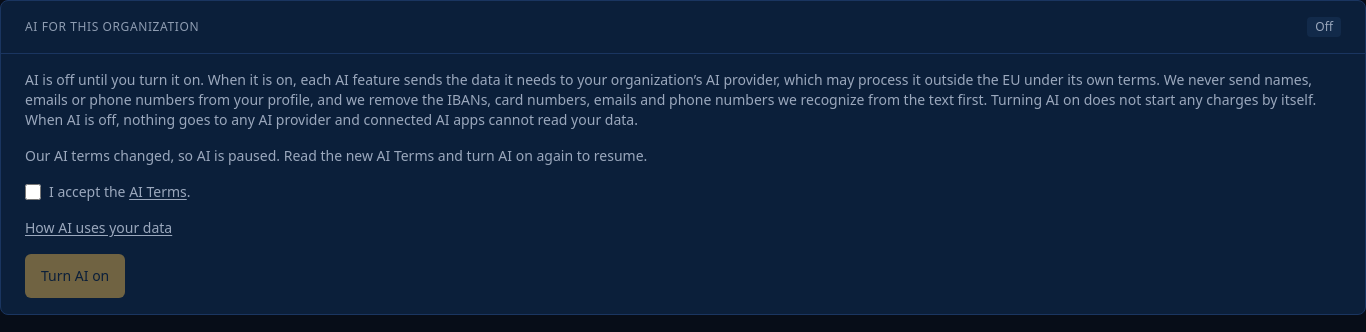
Scenario: AiMasterSwitchCard › a stale version renders Off with the box unticked, button disabled until ticked
The image size is (1366, 332).
Expected: the text "Off" is shown, [1307,17,1341,37]
Expected: the button "Turn AI on" is disabled, [25,254,125,298]
Click the checkbox: click(33, 192) [25,184,41,200]
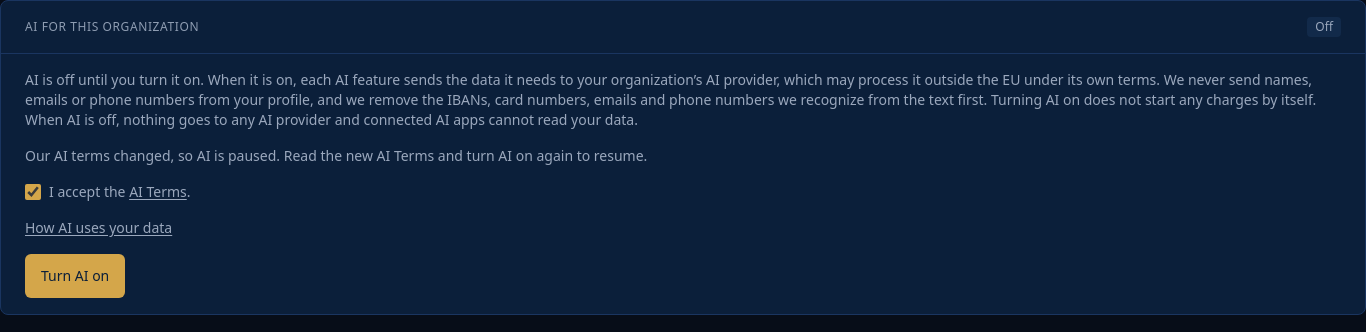
Now the button "Turn AI on" is enabled, box [25,254,125,298]
